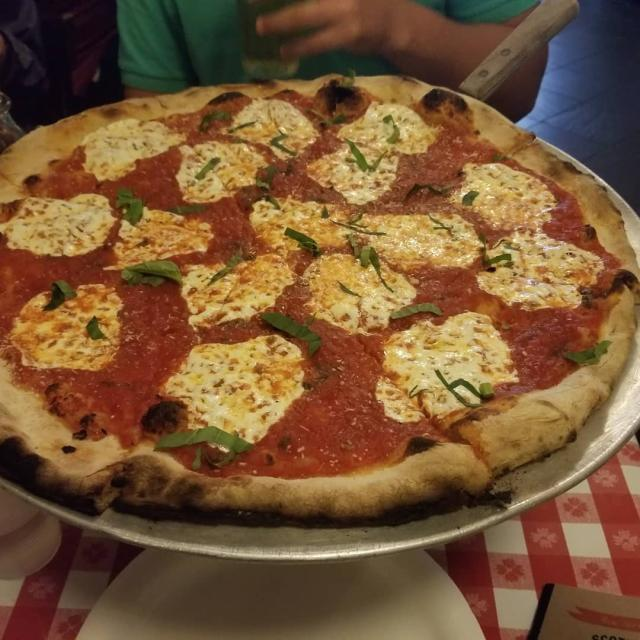basil: (155, 427, 253, 458), (256, 313, 322, 355), (344, 139, 402, 174), (118, 263, 182, 287), (116, 189, 147, 227), (566, 343, 610, 368), (283, 230, 323, 256), (392, 303, 441, 322), (46, 281, 78, 310), (195, 156, 223, 181), (89, 320, 104, 338)
pizza: (0, 75, 640, 532)
